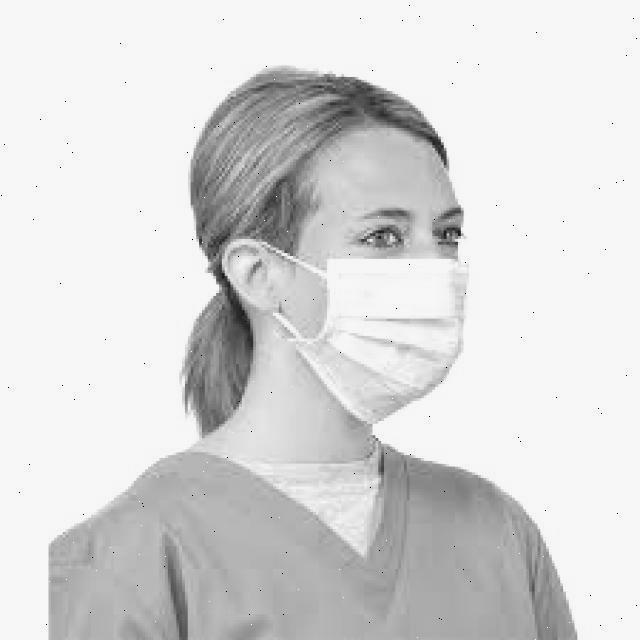fake: (301, 253, 474, 428)
real: (291, 125, 470, 426)
